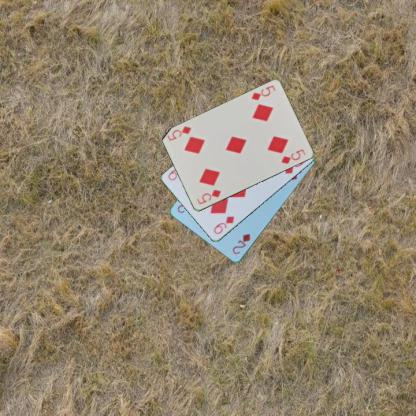2d: (230, 231, 252, 256)
5d: (248, 82, 277, 102), (194, 187, 222, 206)
9d: (211, 214, 236, 236)
